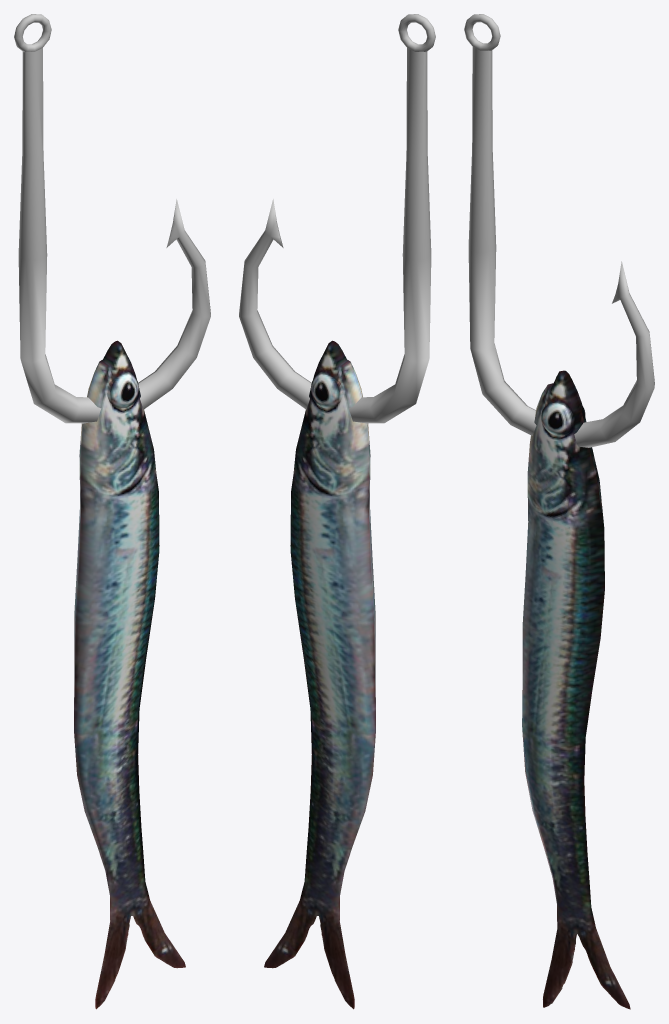
File: Bait_JapaneseAnchovy.fbx
The picture shows the model from 3 angles, left to right: view 1: azimuth 30°, elevation 25°; view 2: azimuth 150°, elevation 25°; view 3: azimuth 330°, elevation 25°; orthographic projection. The views are drawn at different scales.
Visible parts, largest first — view 1: Bait_Anchovy; view 2: Bait_Anchovy; view 3: Bait_Anchovy.
Boxes of the visible parts, x1,y1,x2,y2 form: Bait_Anchovy: (14,14,210,1009); Bait_Anchovy: (239,14,435,1009); Bait_Anchovy: (464,14,654,1009).
Size of the model in its own units: 0.2116 by 1.04 by 0.0449.
